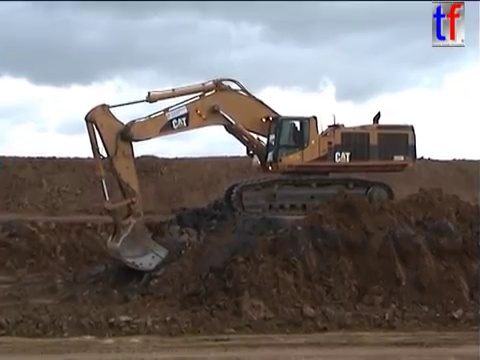excavator: (80, 74, 419, 275)
